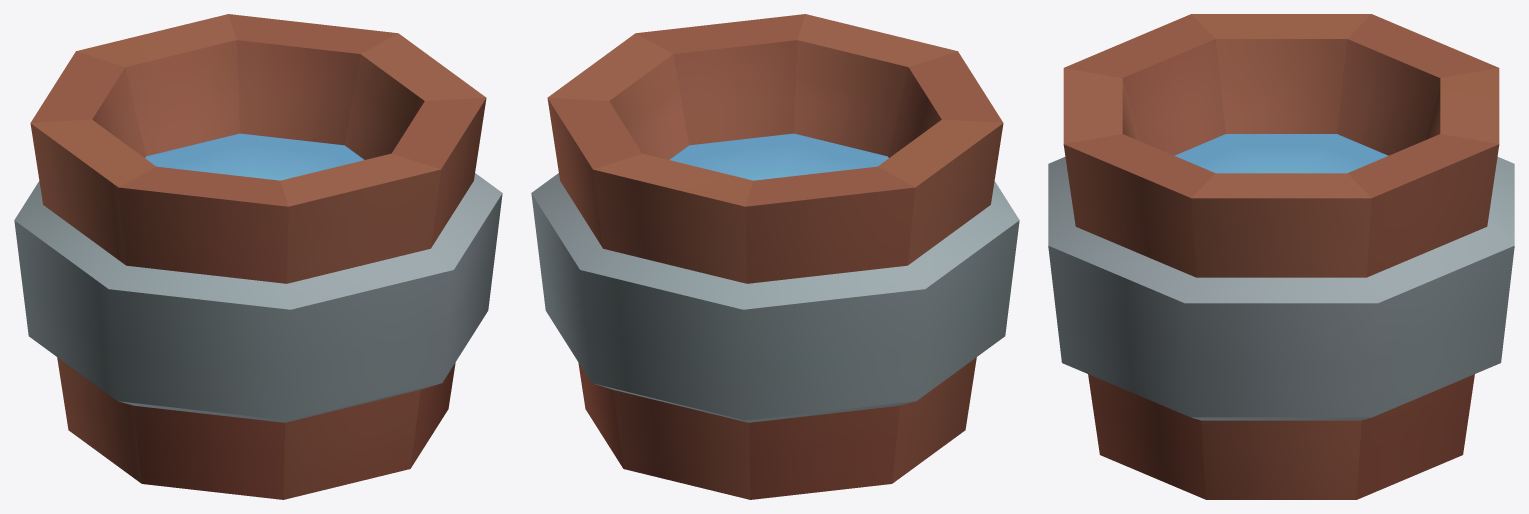
File: bucket_water.glb
The picture shows the model from 3 angles, left to right: view 1: azimuth 30°, elevation 25°; view 2: azimuth 150°, elevation 25°; view 3: azimuth 270°, elevation 25°; orthographic projection. The views are drawn at different scales.
Parts seen in each view (by area): view 1: bucket_water; view 2: bucket_water; view 3: bucket_water.
Part boxes in pixels (x1,y1,x2,y2): bucket_water: (14, 14, 502, 499); bucket_water: (531, 14, 1019, 499); bucket_water: (1048, 14, 1514, 499).
Bounding box in the file's own units: 0.14 × 0.105 × 0.14.
Materials: 1 (1 with a texture image).
